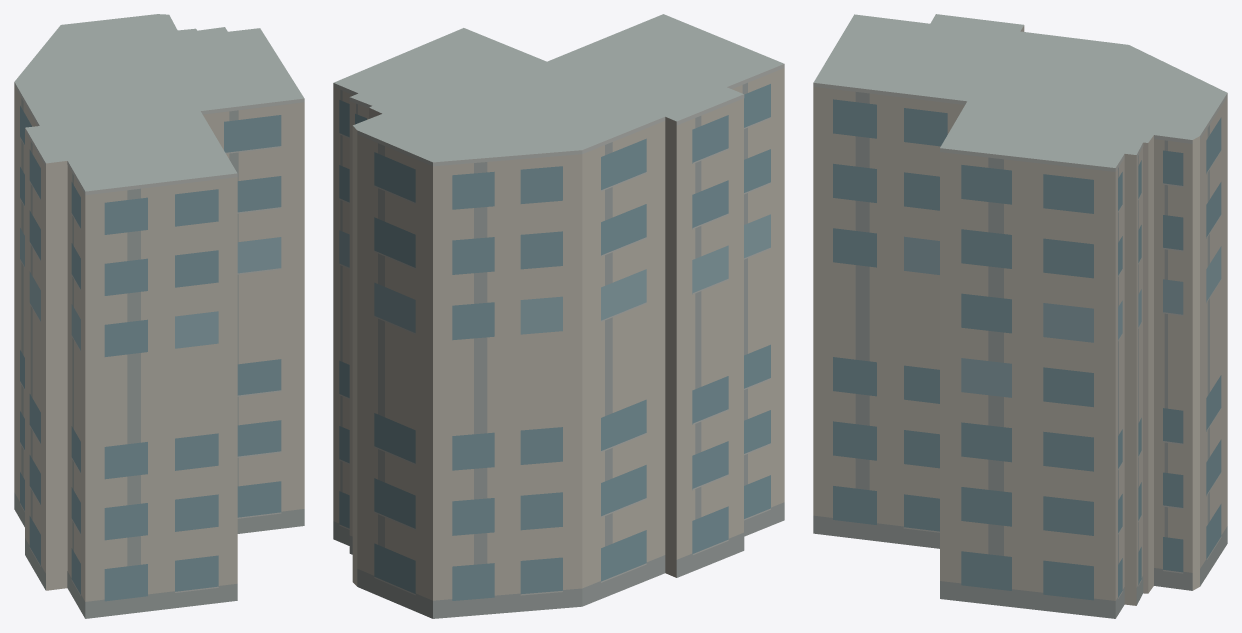
File: survey-upis-32668822.glb
The picture shows the model from 3 angles, left to right: view 1: azimuth 30°, elevation 25°; view 2: azimuth 150°, elevation 25°; view 3: azimuth 270°, elevation 25°; orthographic projection. The views are drawn at different scales.
Parts seen in each view (by area): view 1: survey-upis-32668822.tmp; view 2: survey-upis-32668822.tmp; view 3: survey-upis-32668822.tmp.
Boxes of the visible parts, x1,y1,x2,y2 form: survey-upis-32668822.tmp: (14,14,304,618); survey-upis-32668822.tmp: (333,14,784,618); survey-upis-32668822.tmp: (813,14,1227,618).
Bounding box in the file's own units: 20.39 × 27.8 × 23.16.
